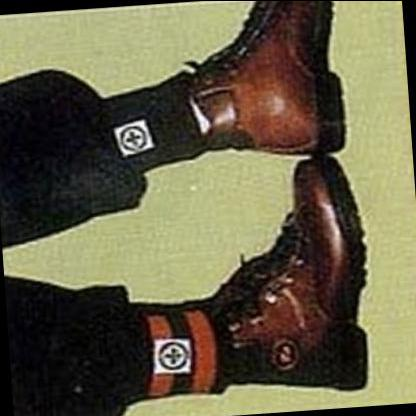safety-shoe: (198, 149, 401, 387), (178, 1, 365, 178)
